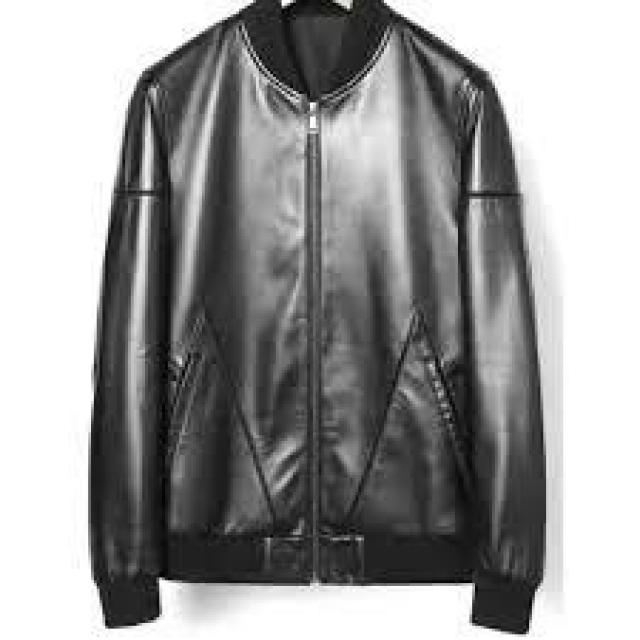jacket: (85, 0, 546, 626)
